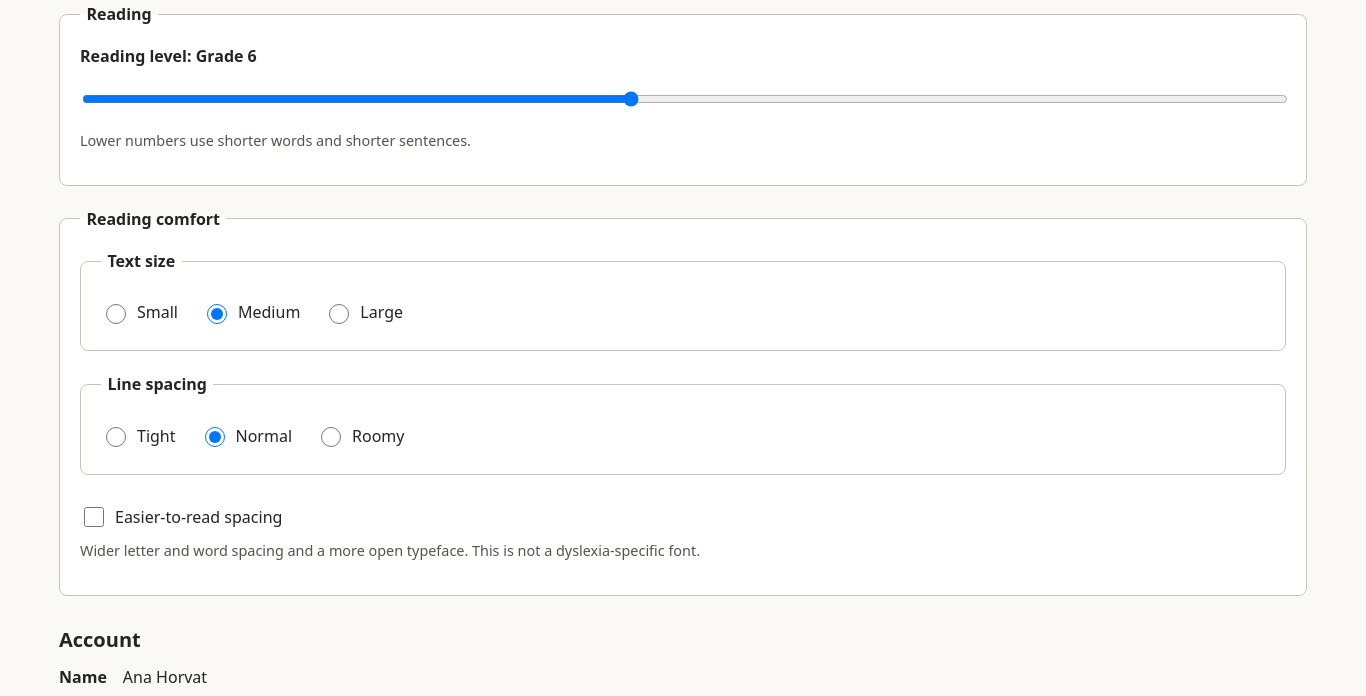
Scenario: settings (screen 07) › applies text size immediately and saves it
(page scrolled)
Click the radio button labelled "Large" at (339, 314), box [329,304,349,324]
(page scrolled)
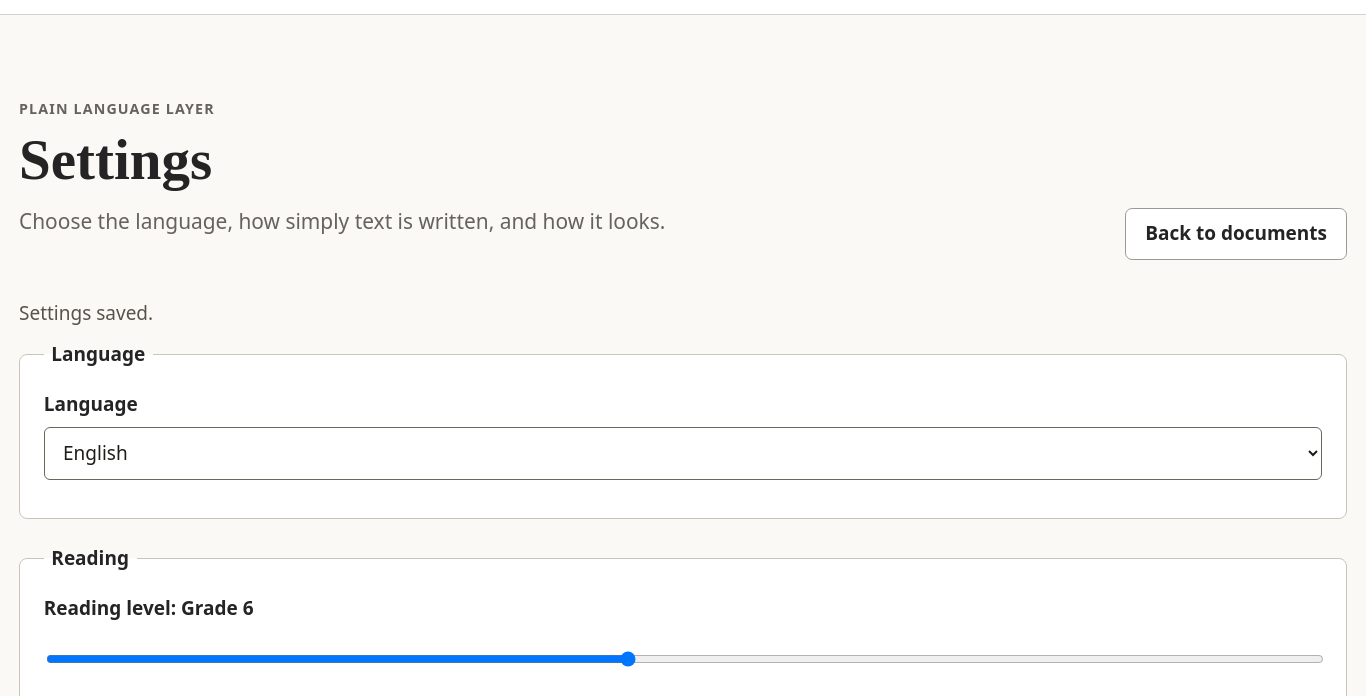
Now the text "Settings saved." is shown, box [19,300,153,326]
